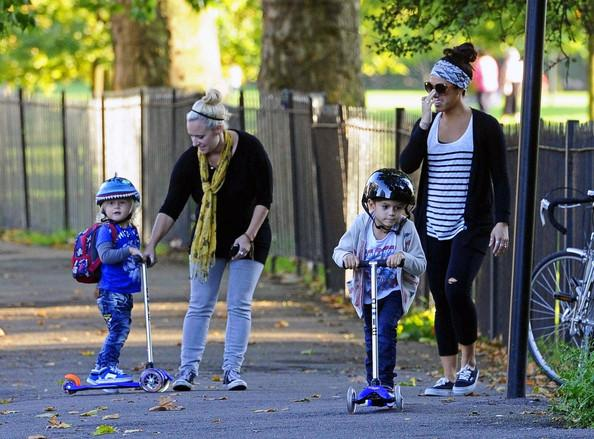With Helmet: (355, 164, 414, 232), (91, 167, 143, 223)
